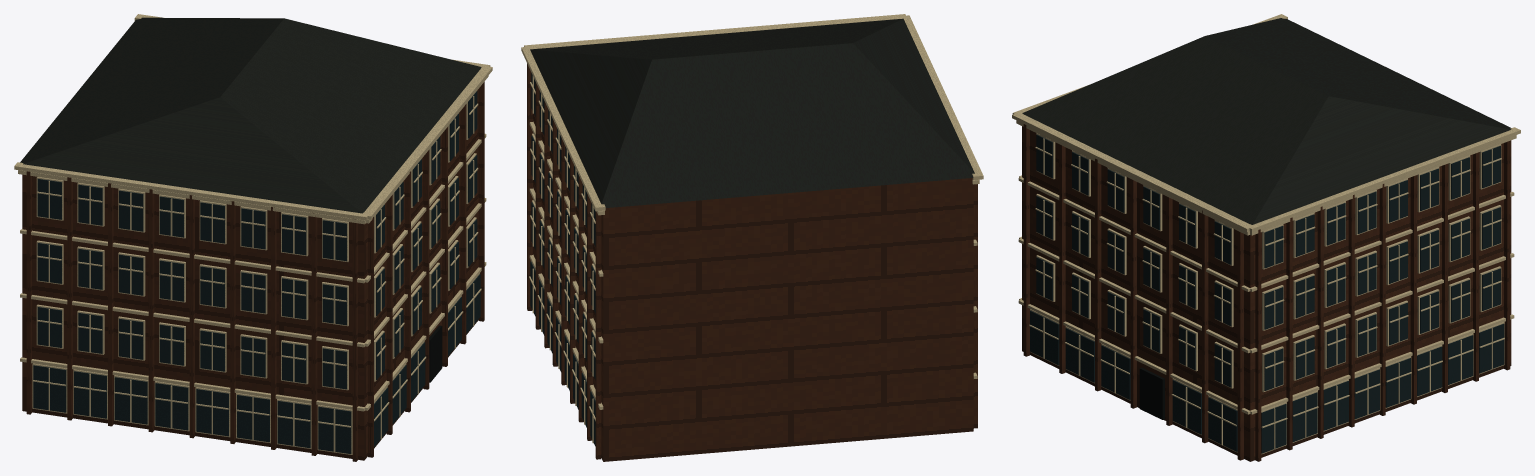
3 renders of one model, left to right at view 1: azimuth 30°, elevation 25°; view 2: azimuth 150°, elevation 25°; view 3: azimuth 270°, elevation 25°, orthographic. The views are drawn at different scales.
Visible parts, largest first — view 1: bervoets-heerenstraat-1, bervoets-heerenstraat-0, bervoets-heerenstraat-3, bervoets-heerenstraat-2, bervoets-heerenstraat-4; view 2: bervoets-heerenstraat-0, bervoets-heerenstraat-1, bervoets-heerenstraat-2, bervoets-heerenstraat-3; view 3: bervoets-heerenstraat-0, bervoets-heerenstraat-1, bervoets-heerenstraat-3, bervoets-heerenstraat-2, bervoets-heerenstraat-4.
Part boxes in pixels (left/top/right/bottom): bervoets-heerenstraat-1: left=20, top=17, right=481, bottom=213; bervoets-heerenstraat-0: left=22, top=82, right=484, bottom=461; bervoets-heerenstraat-3: left=33, top=91, right=480, bottom=453; bervoets-heerenstraat-2: left=14, top=14, right=492, bottom=454; bervoets-heerenstraat-4: left=429, top=325, right=442, bottom=382; bervoets-heerenstraat-0: left=527, top=63, right=977, bottom=461; bervoets-heerenstraat-1: left=530, top=18, right=974, bottom=207; bervoets-heerenstraat-2: left=521, top=14, right=983, bottom=443; bervoets-heerenstraat-3: left=530, top=73, right=595, bottom=446; bervoets-heerenstraat-0: left=1022, top=124, right=1511, bottom=461; bervoets-heerenstraat-1: left=1022, top=18, right=1511, bottom=224; bervoets-heerenstraat-3: left=1030, top=134, right=1504, bottom=453; bervoets-heerenstraat-2: left=1012, top=14, right=1520, bottom=454; bervoets-heerenstraat-4: left=1139, top=367, right=1164, bottom=419.
Bounding box in the file's own units: 32.33 × 20.5 × 32.32.
Materials: 5 (5 with a texture image).
